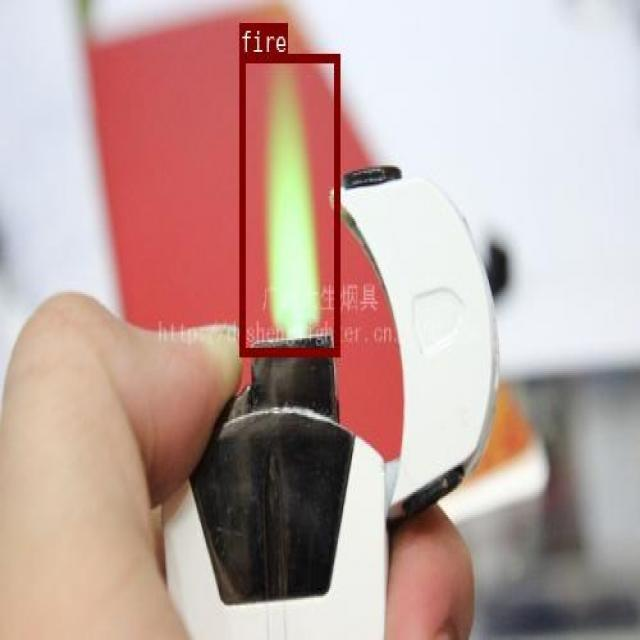fire: (239, 54, 339, 356)
